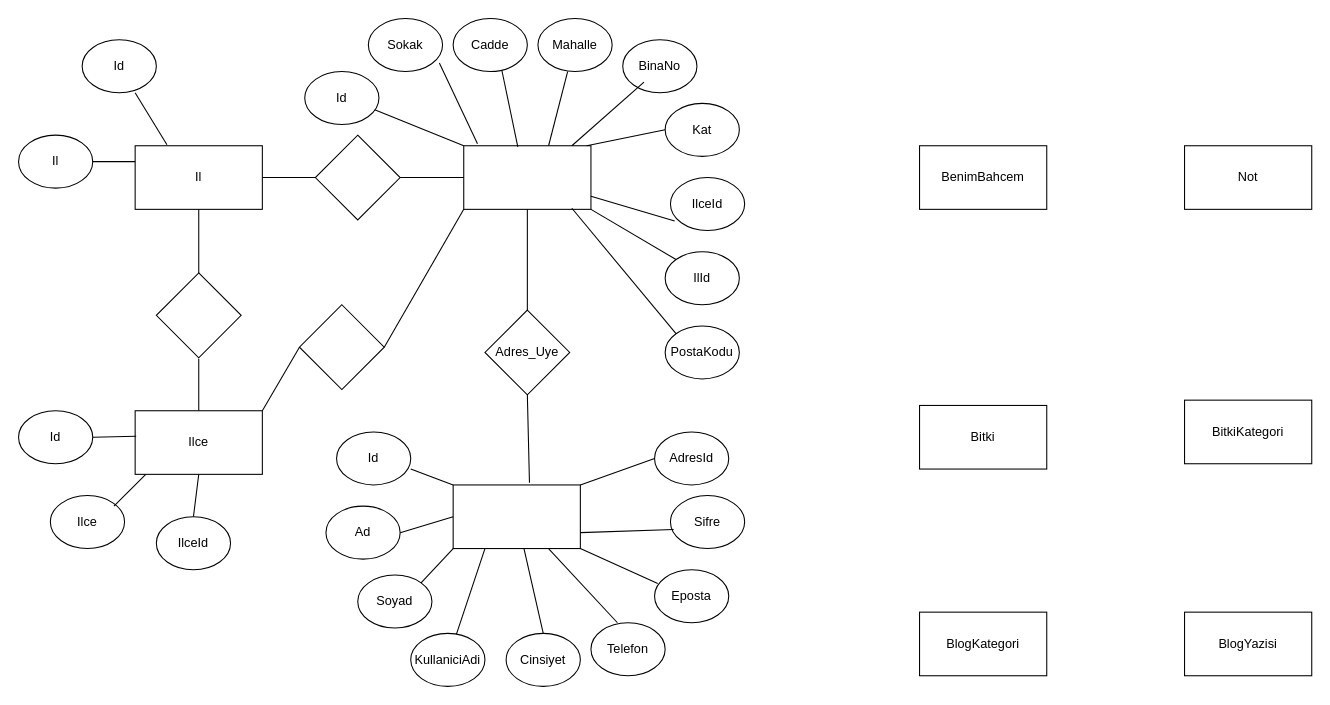
Some shapes in this 1330 by 705 pixel diagram are drawn without their labels. Here are the shapes that lost their labels. From the top down, the centre of each, then its label:
point 357,177: Il_Adres
point 527,177: Adres
point 198,315: Il_Ilce
point 341,347: Ilce_Adres
point 516,516: Uye
